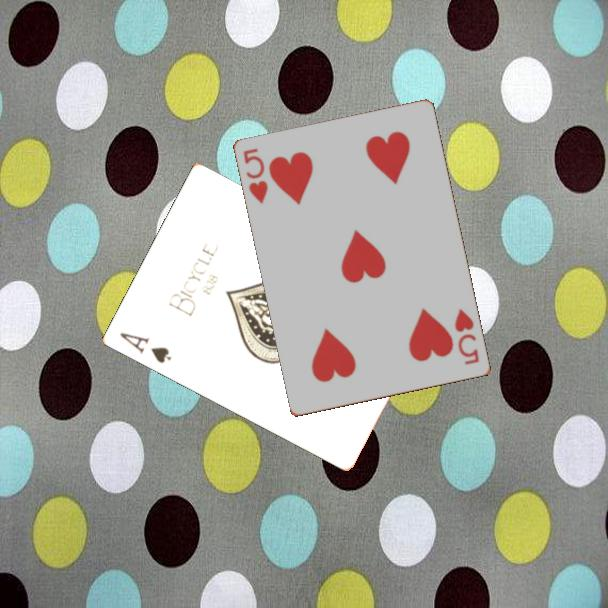h05: (240, 145, 271, 207), (452, 305, 482, 368)
s01: (116, 329, 174, 366)
